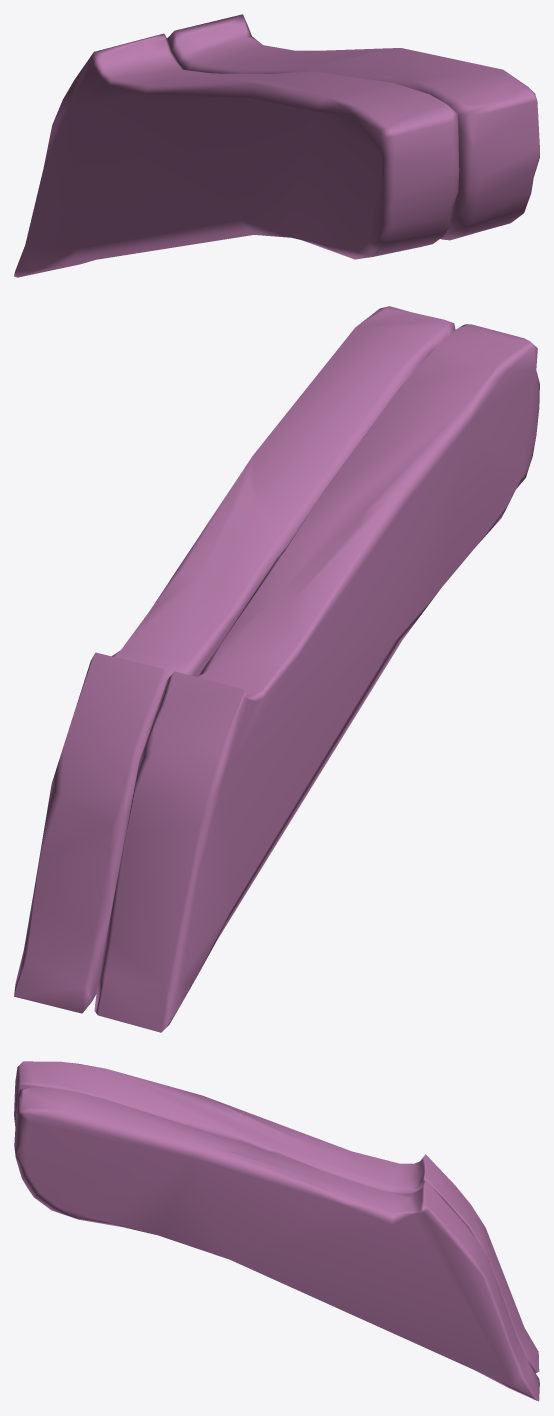
3 renders of one model, top to bottom at view 1: azimuth 30°, elevation 25°; view 2: azimuth 150°, elevation 25°; view 3: azimuth 270°, elevation 25°, orthographic. The views are drawn at different scales.
Parts seen in each view (by area): view 1: 隔核; view 2: 隔核; view 3: 隔核.
Part boxes in pixels (box(x1,y1,x2,y2)): 隔核: box(14, 14, 539, 277); 隔核: box(14, 306, 539, 1032); 隔核: box(14, 1061, 539, 1401).
Bounding box in the file's own units: 0.00402 × 0.0105 × 0.017.
